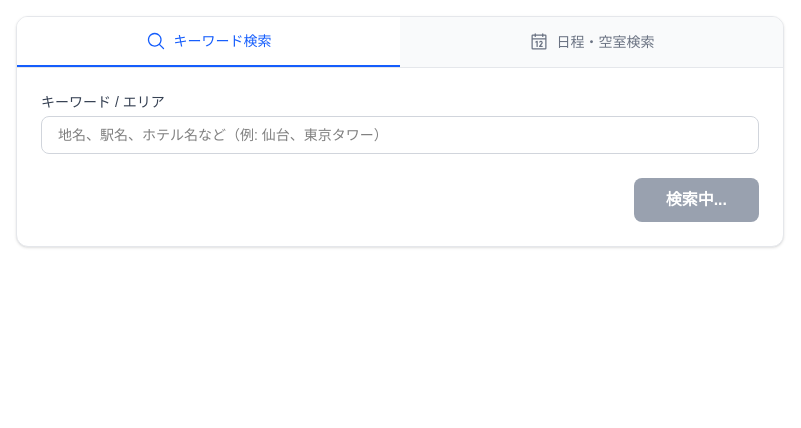
SearchForm コンポーネント › 【TC-SF-05】isLoading が true の場合に各フィールドとボタンが非活性になること
expect the field with test id "keyword-input" is disabled: met, box [41,116,759,154]
expect the button with test id "submit-button" is disabled: met, box [634,178,759,222]
// 空室検索タブの検証
Step 1. Click the button with test id "tab-vacant" → (592, 42), box [400,17,783,67]
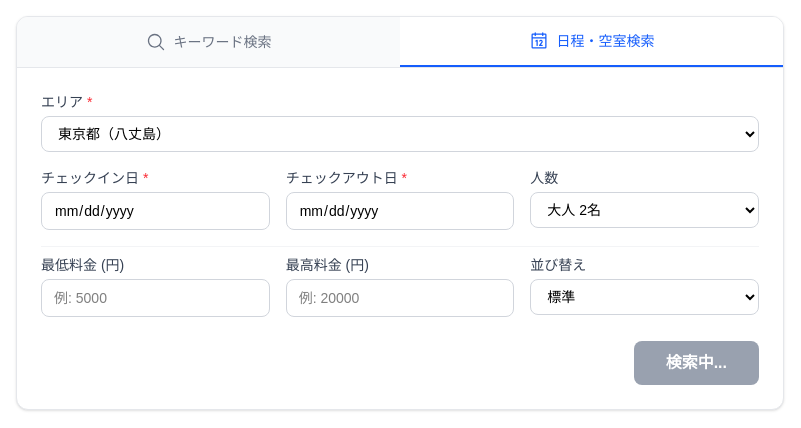
expect the dropdown with test id "area-select" is disabled: met, box [41,116,759,152]
expect the date field with test id "checkin-input" is disabled: met, box [41,192,270,230]
expect the date field with test id "checkout-input" is disabled: met, box [286,192,514,230]
